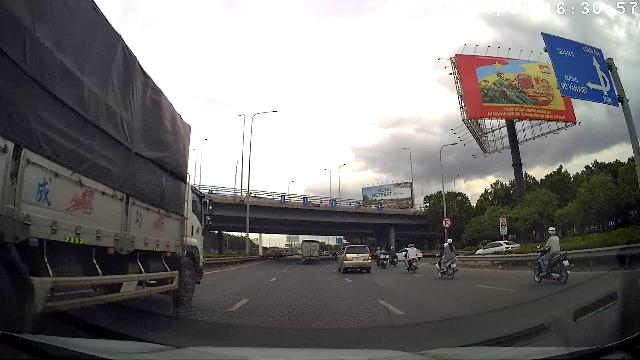123b-cam-re-phai: (441, 217, 452, 229)
